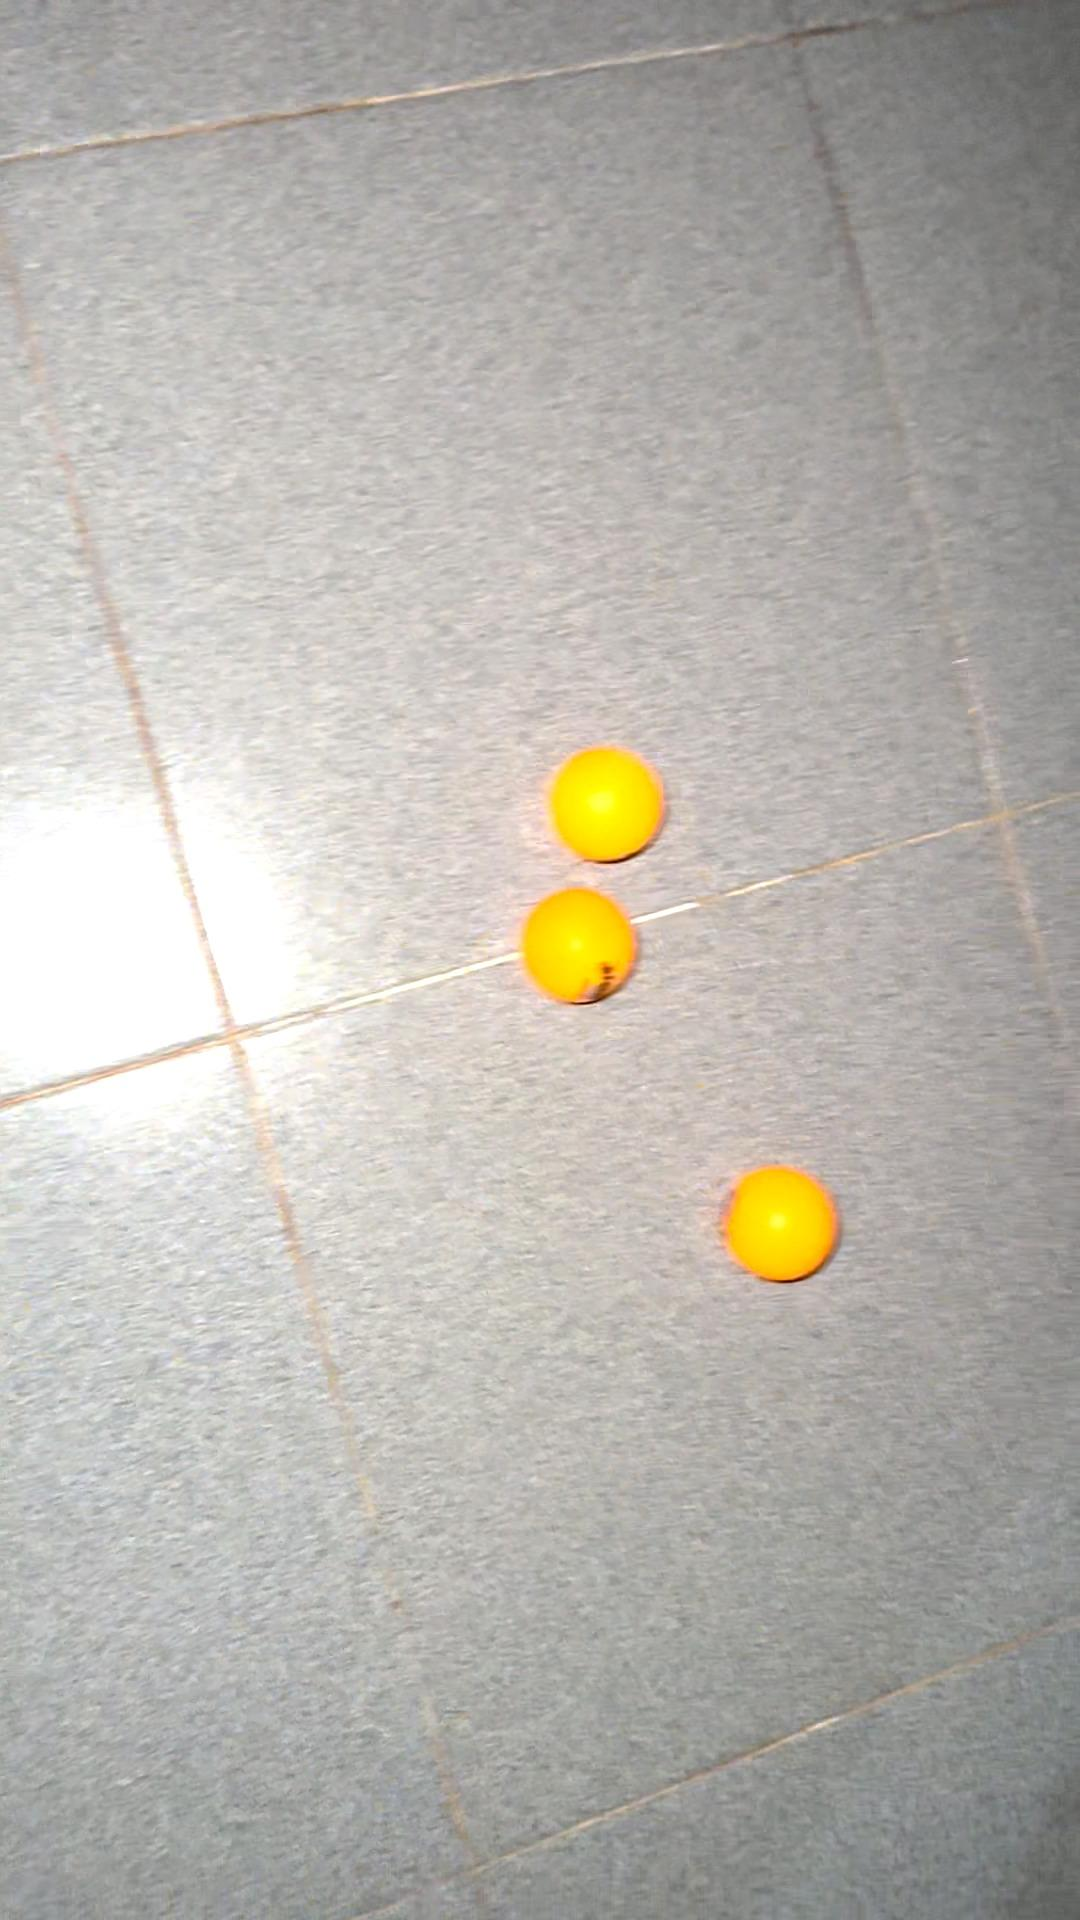oball: (531, 731, 682, 873), (521, 878, 655, 1015), (721, 1150, 848, 1286)
